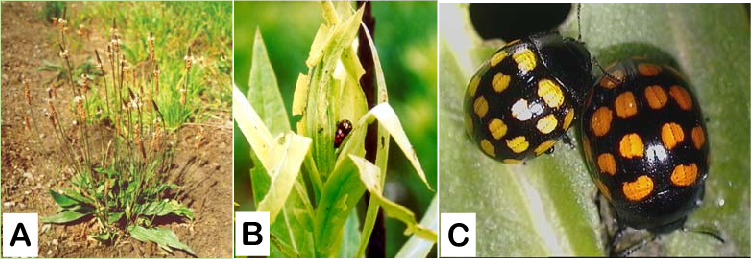buckhorn plantain: (23, 14, 192, 233)
